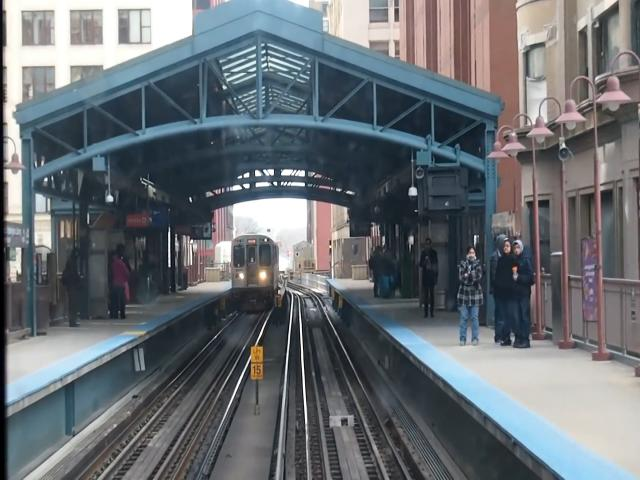signal light: (330, 239, 334, 260)
